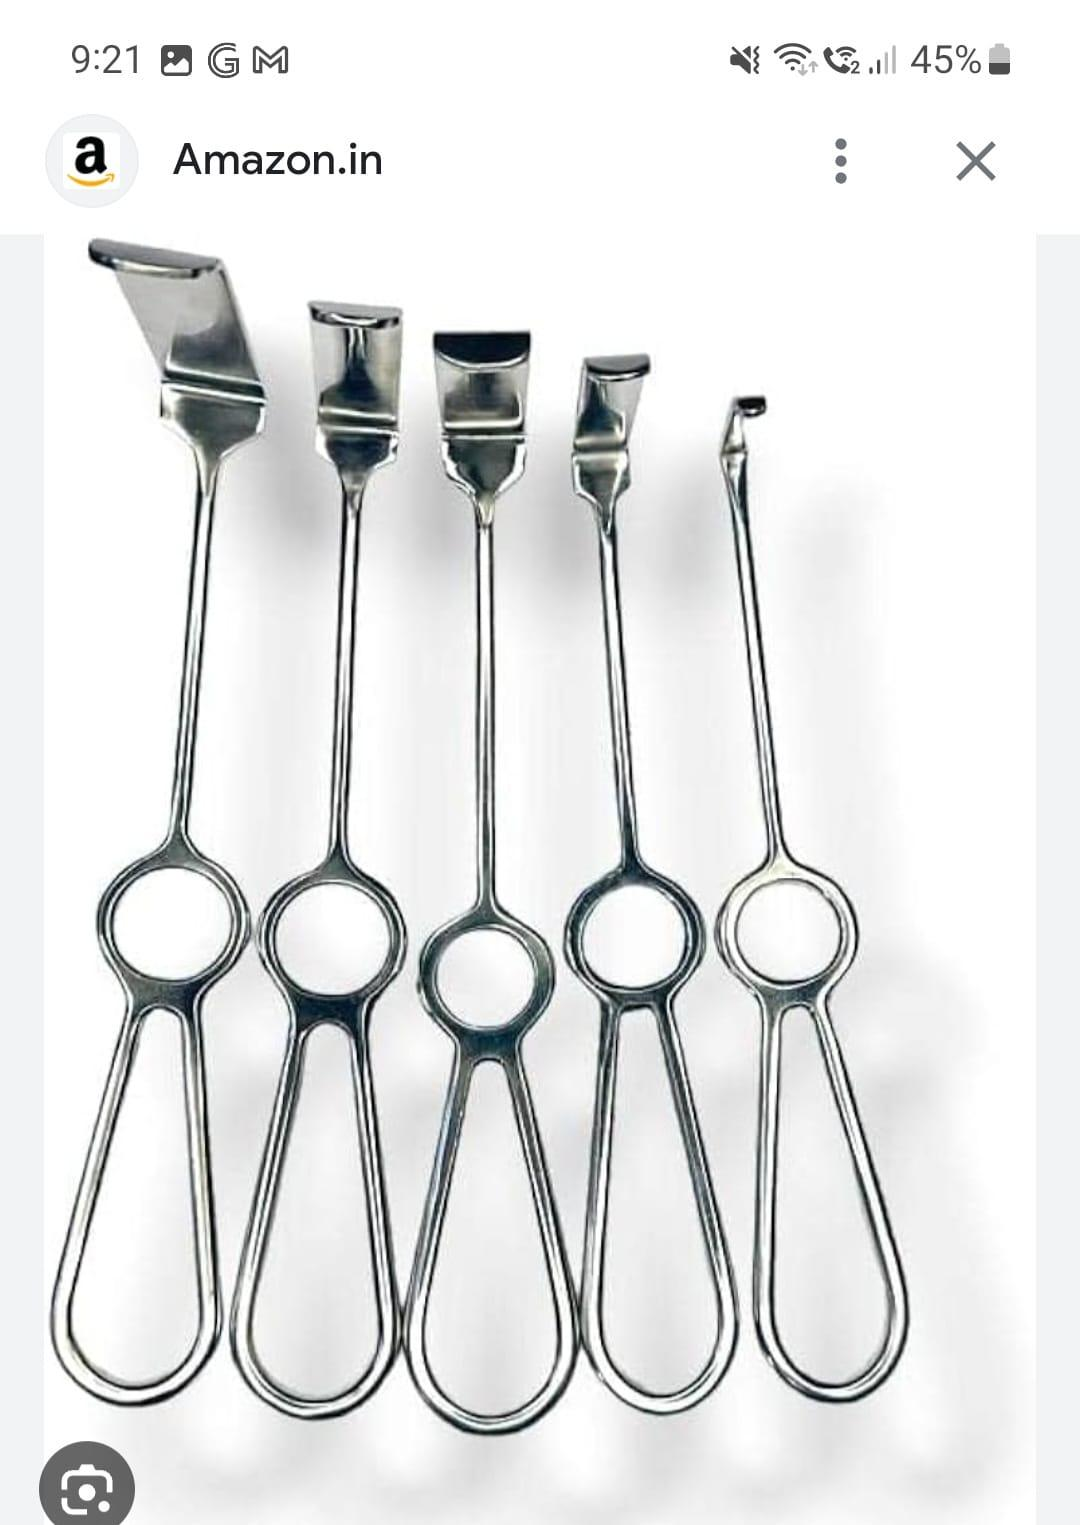Langenbach Retractor: (55, 235, 259, 1417), (224, 280, 425, 1413), (404, 310, 565, 1433), (580, 335, 718, 1428)
